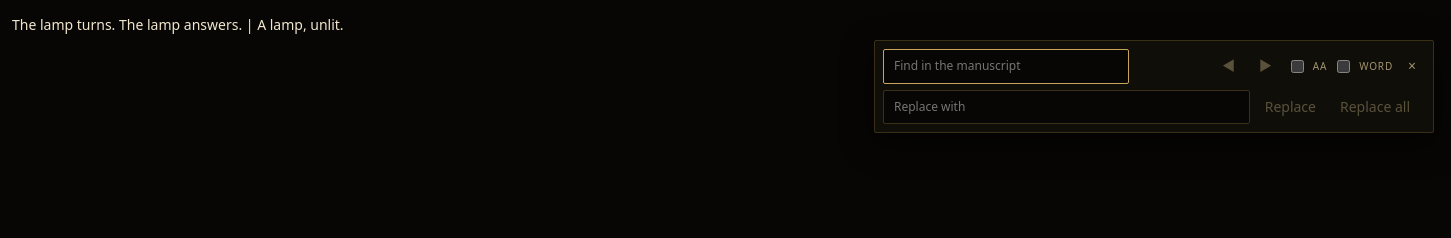
Test: find and replace › replaces the one in hand, and then all of them
Type "lamp" into the search field labelled "Find" at (1006, 66), box [883,49,1129,84]
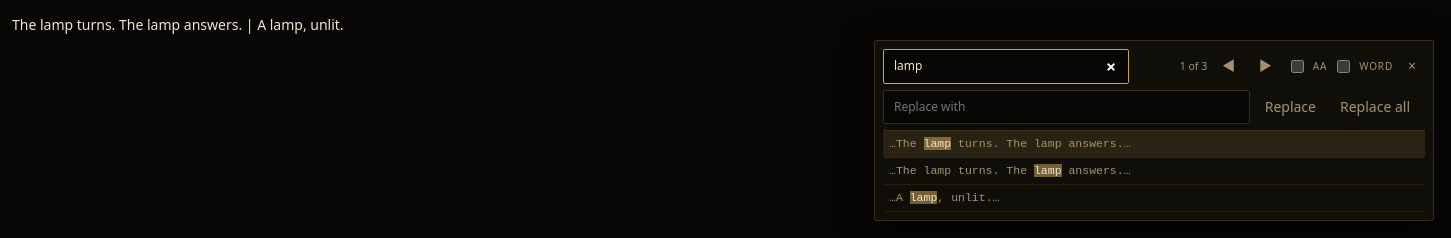
Type "beacon" into the field labelled "Replace with" at (1066, 107), box [883,90,1250,124]
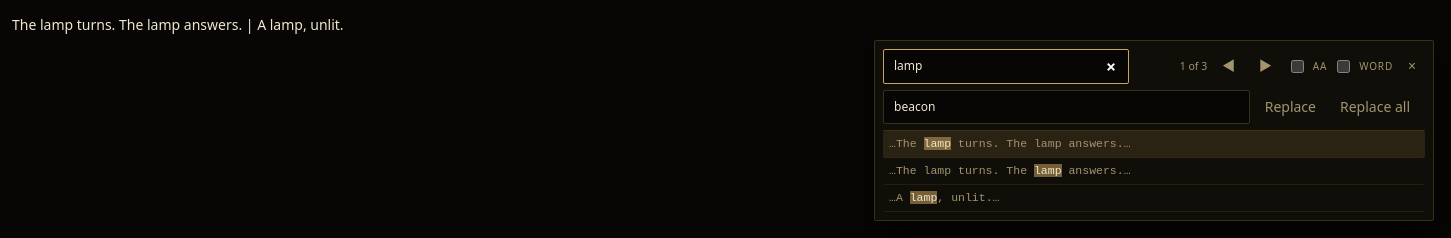
Click the button "Replace" at (1290, 107), box [1256,91,1325,123]
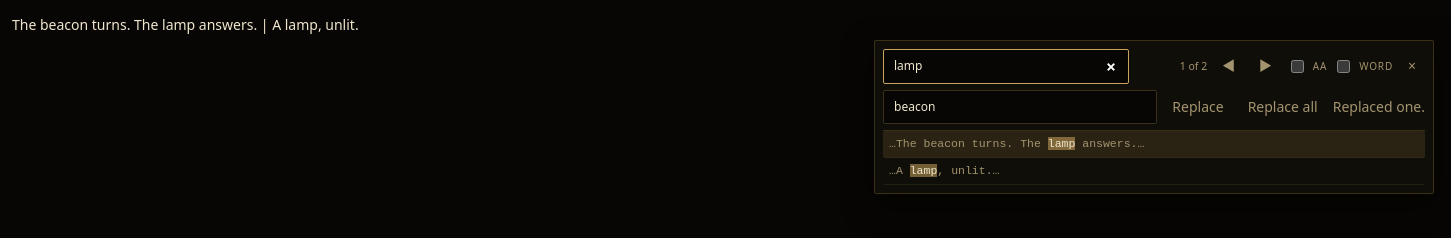
Expected: the text with test id "text" reads "The beacon turns. The lamp answers. | A lamp, unlit.", [12,15,359,34]
Click the button "Replace all" at (1283, 107), box [1239,91,1327,123]
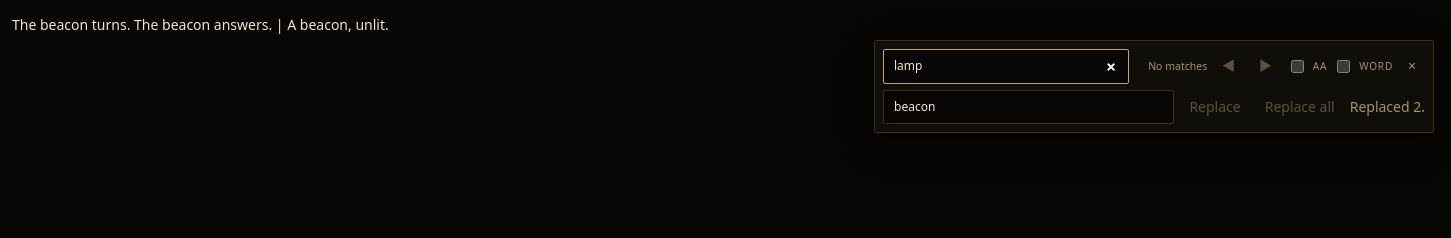
Expected: the text with test id "text" reads "The beacon turns. The beacon answers. | A beacon, unlit.", [12,15,389,34]
Expected: the text "Replaced 2." is shown, [1350,96,1425,118]
